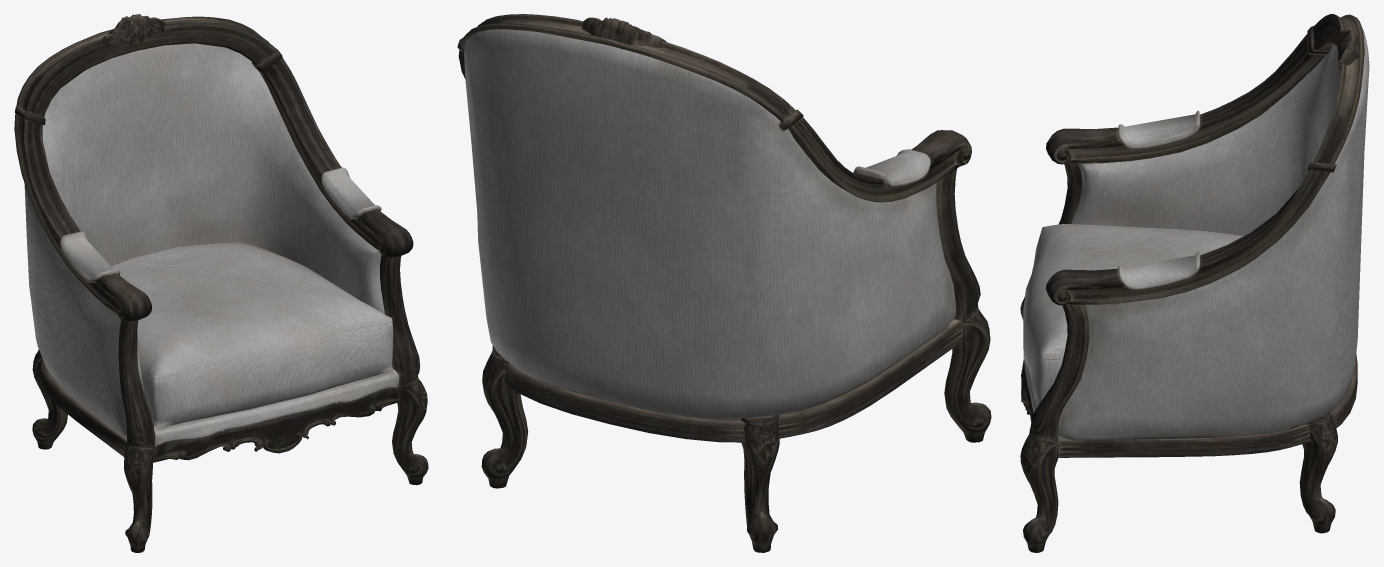
File: ArmChair_01.glb
3 views of the same model, side by side, from view 1: azimuth 30°, elevation 25°; view 2: azimuth 150°, elevation 25°; view 3: azimuth 270°, elevation 25° (orthographic). The views are drawn at different scales.
Visible parts, largest first — view 1: ArmChair_01; view 2: ArmChair_01; view 3: ArmChair_01.
Part boxes in pixels (box(x1,y1,x2,y2)): ArmChair_01: box(14, 14, 428, 552); ArmChair_01: box(457, 14, 991, 552); ArmChair_01: box(1020, 14, 1369, 552).
Bounding box in the file's own units: 0.8484 × 1.07 × 0.7658.
1 material, 1 textured.
